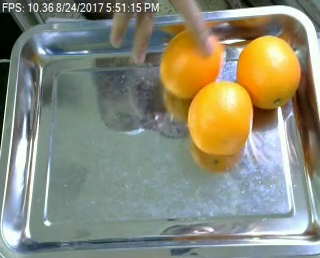Orange: (235, 35, 302, 110), (187, 80, 253, 155)
